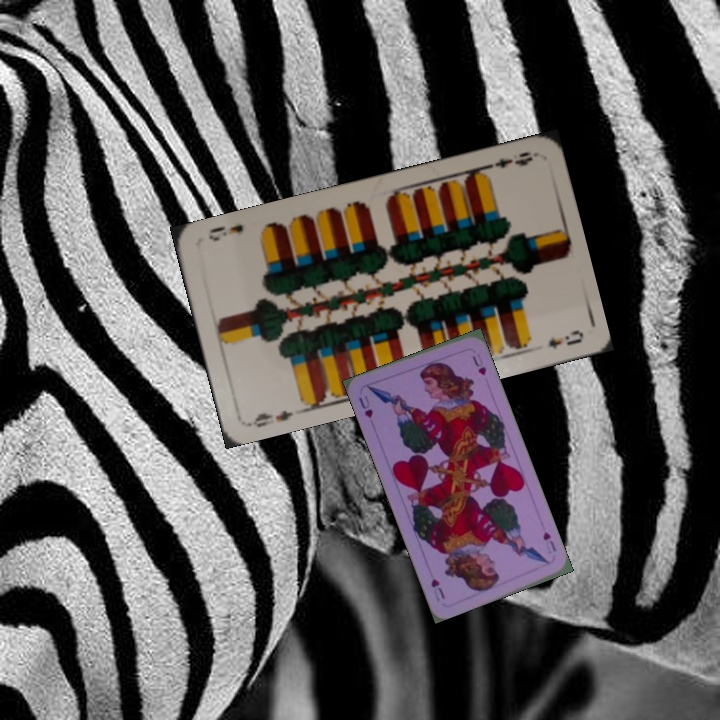E9: (479, 147, 537, 172), (245, 406, 296, 430)
HU: (354, 391, 375, 420), (539, 528, 559, 556)
